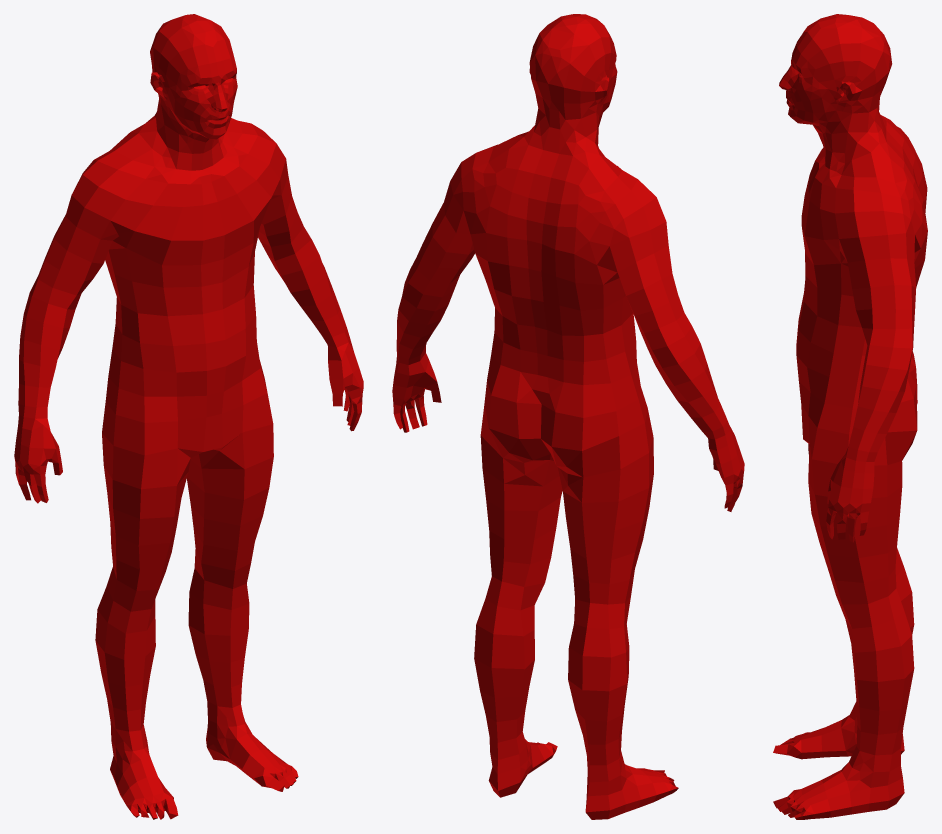
Rendered from Giant.obj.
The picture shows the model from 3 angles, left to right: view 1: azimuth 30°, elevation 25°; view 2: azimuth 150°, elevation 25°; view 3: azimuth 270°, elevation 25°; orthographic projection.
Parts seen in each view (by area): view 1: Realistic_White_Male_Low_Poly; view 2: Realistic_White_Male_Low_Poly; view 3: Realistic_White_Male_Low_Poly.
Part boxes in pixels (box(x1,y1,x2,y2)): Realistic_White_Male_Low_Poly: box(14, 14, 363, 819); Realistic_White_Male_Low_Poly: box(392, 14, 744, 819); Realistic_White_Male_Low_Poly: box(773, 14, 927, 819).
Size of the model in its own units: 33.63 by 72.02 by 13.22.
